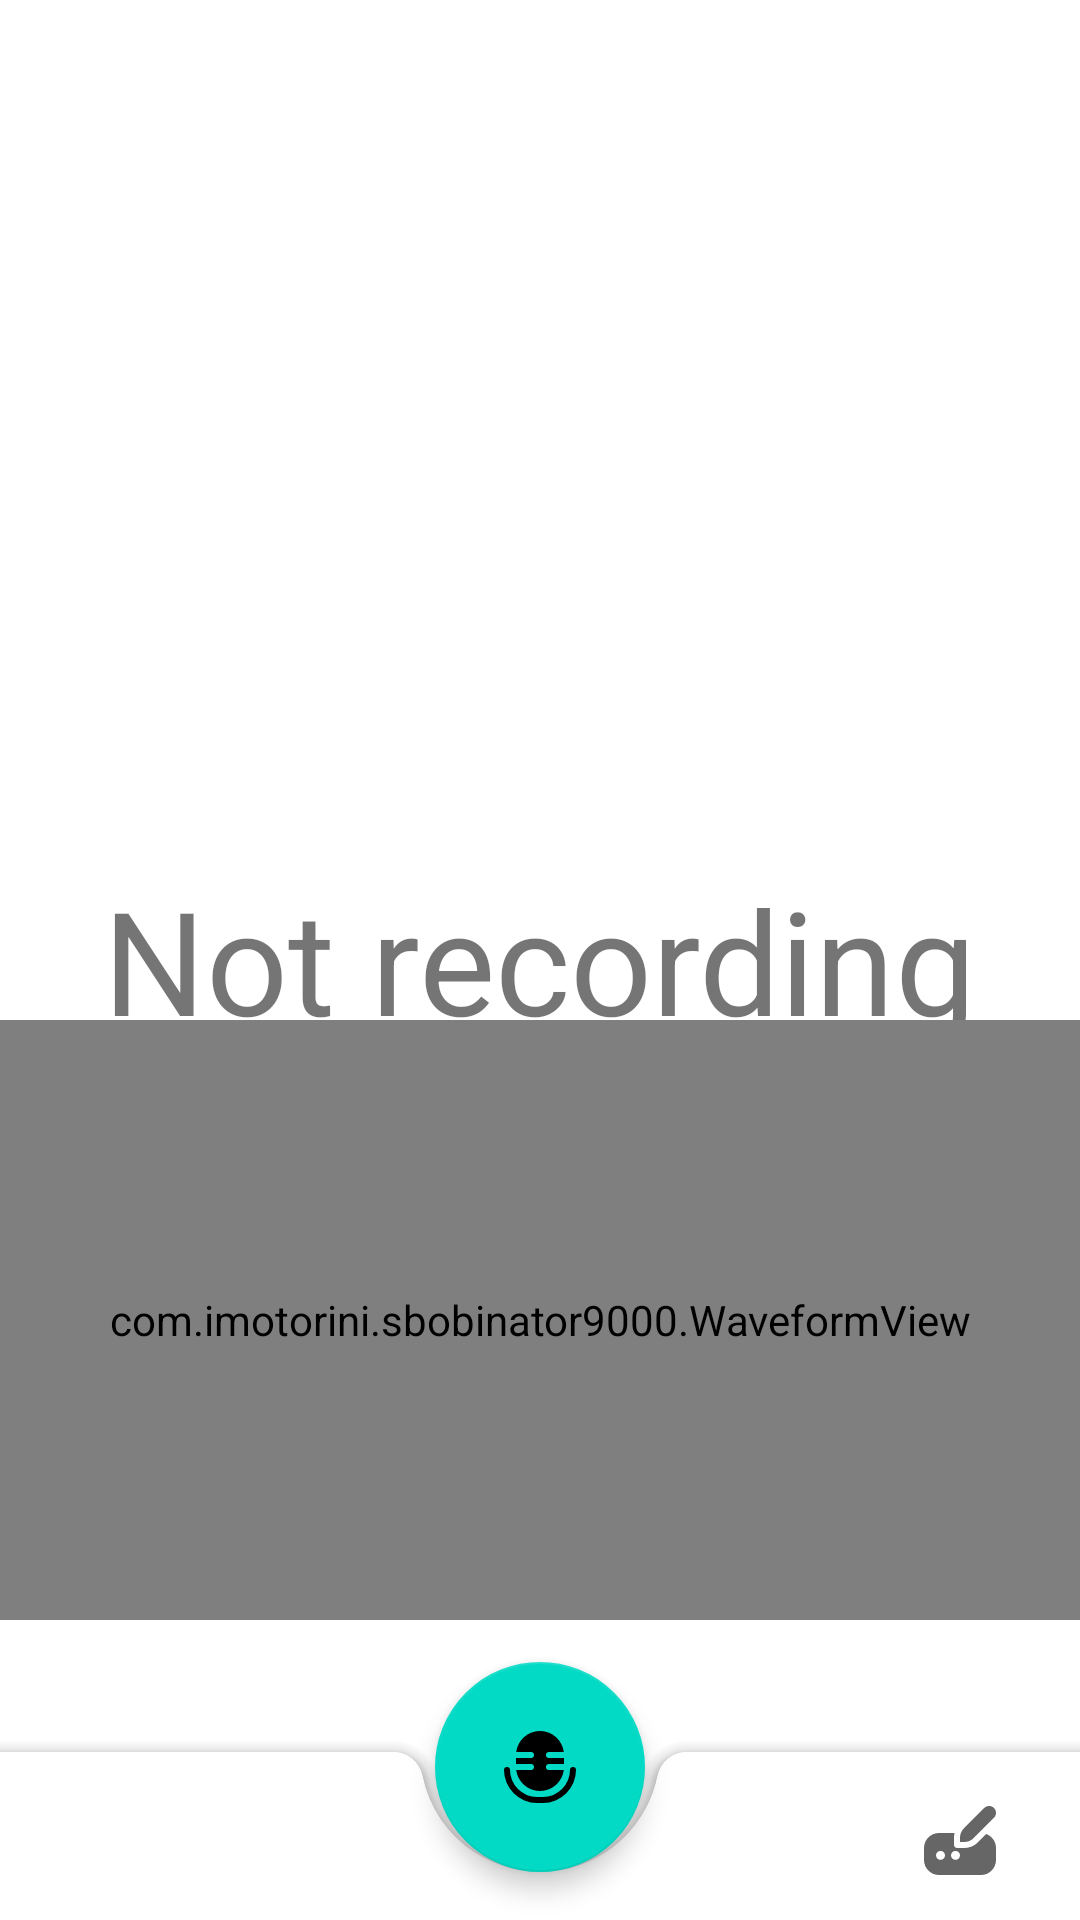

Locate icon controls on the screen. Image size 1080 x 1920, boxes as (x1, y1, x2, y2).
microphone: (435, 1662, 645, 1872)
pen field: (924, 1806, 996, 1875)
